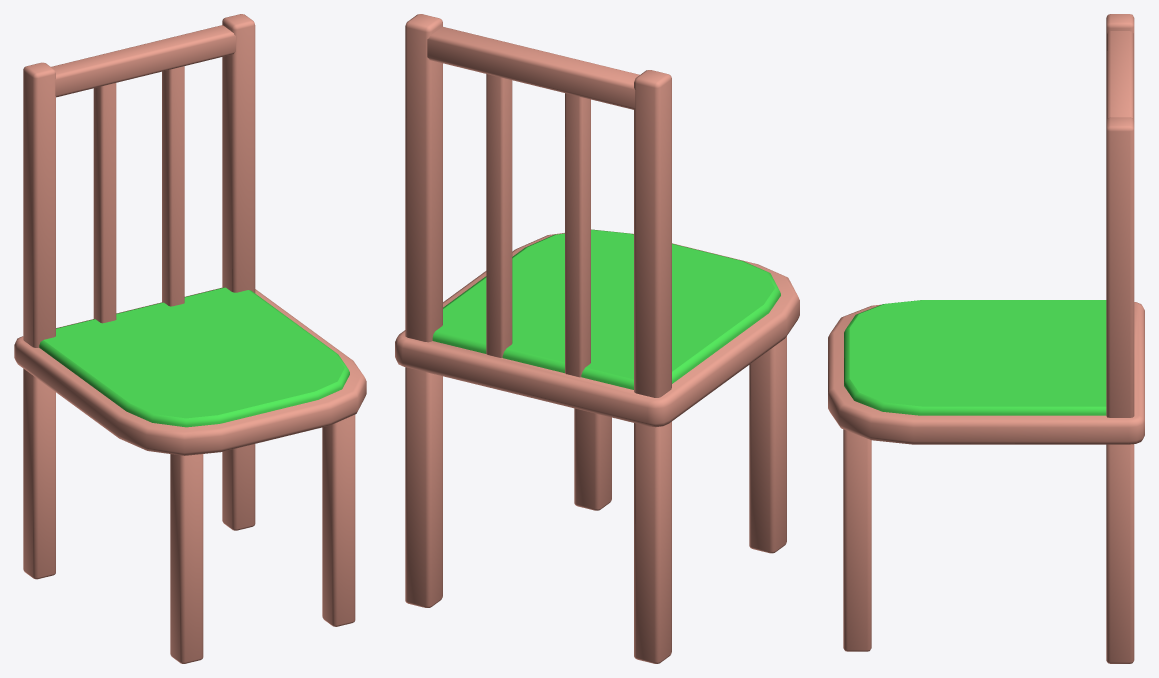
3 renders of one model, left to right at view 1: azimuth 30°, elevation 25°; view 2: azimuth 150°, elevation 25°; view 3: azimuth 270°, elevation 25°, orthographic. The views are drawn at different scales.
Parts seen in each view (by area): view 1: Cube.002; view 2: Cube.002; view 3: Cube.002.
Part boxes in pixels (x1=…): Cube.002: x1=14, y1=14, x2=366, y2=663; Cube.002: x1=395, y1=14, x2=799, y2=663; Cube.002: x1=828, y1=14, x2=1144, y2=663.
Size of the model in its own units: 184 by 375 by 200.
